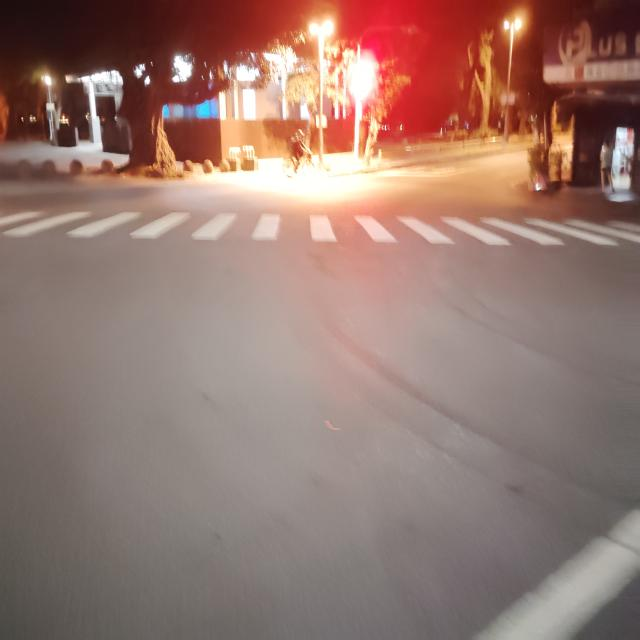zebra_crossing: (55, 107, 71, 316)
